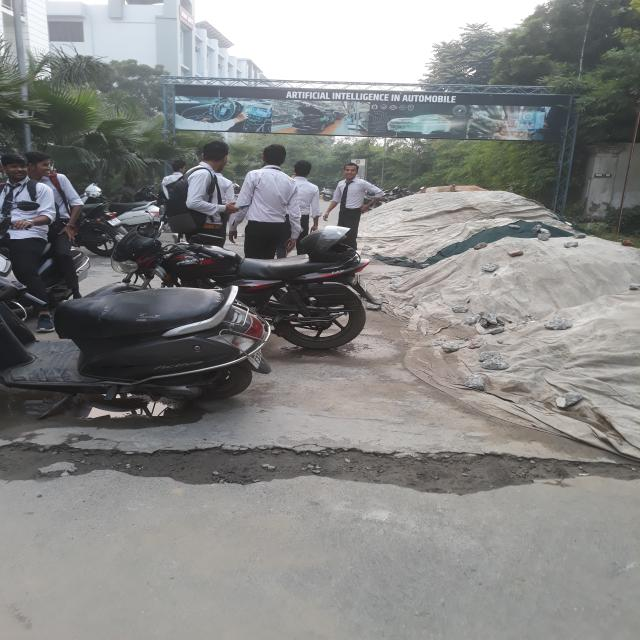unsafe: (1, 151, 51, 332), (28, 148, 82, 303), (238, 142, 287, 258), (323, 161, 385, 249), (182, 139, 231, 249), (290, 160, 318, 242)
